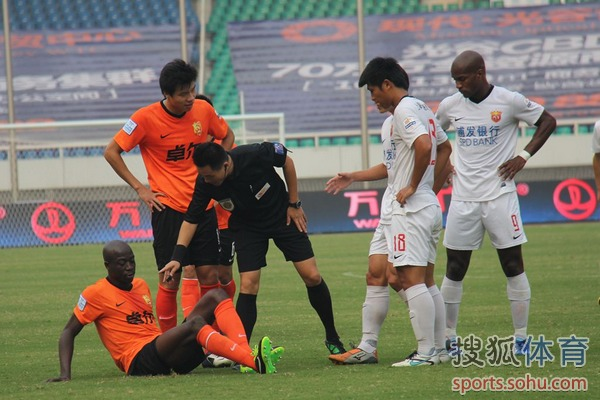fall: (45, 233, 293, 383)
